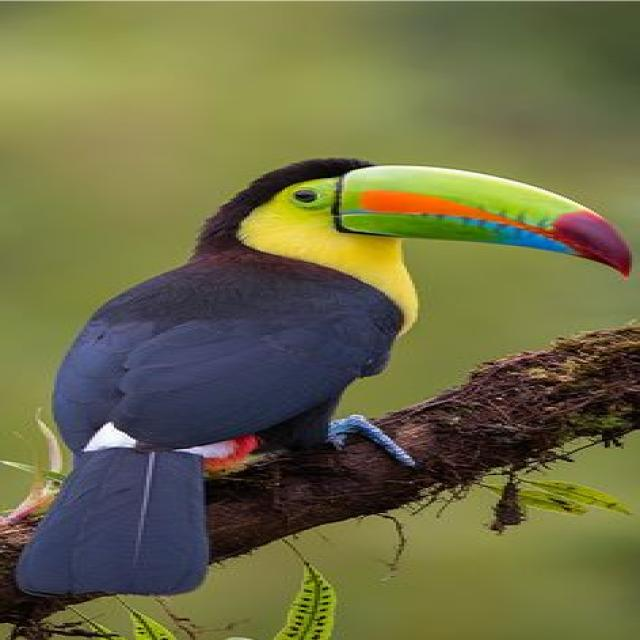Herbivorous: (14, 158, 632, 599)
